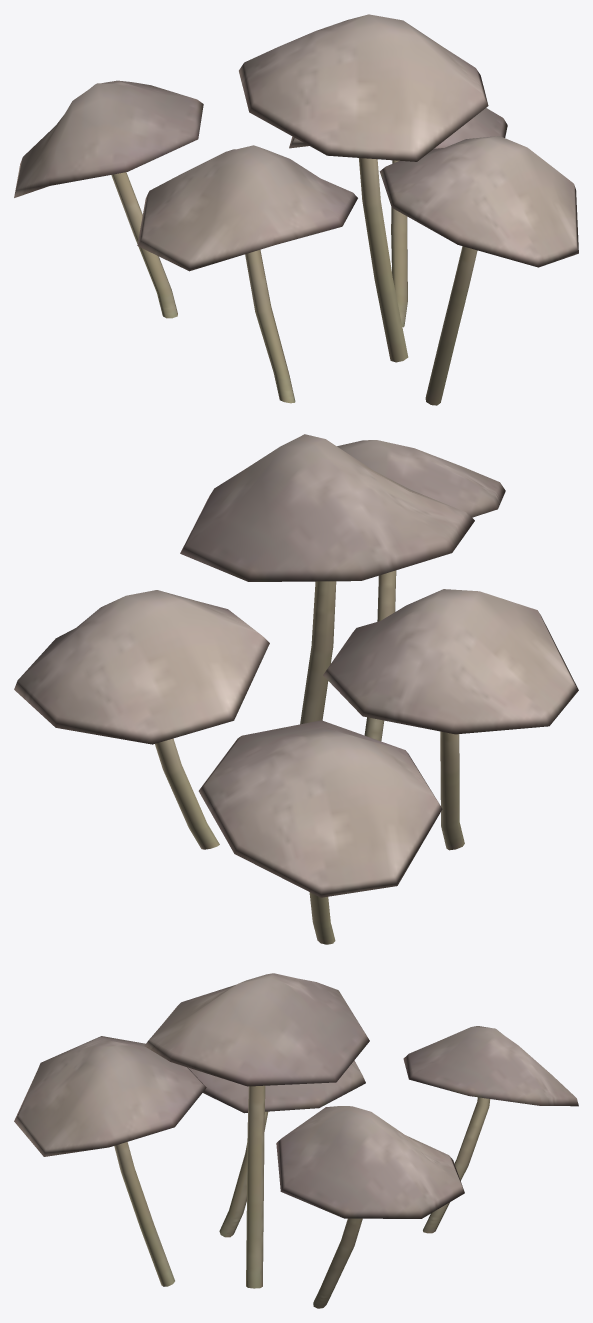
The model's file is Mushroom.glb.
The picture shows the model from 3 angles, top to bottom: view 1: azimuth 30°, elevation 25°; view 2: azimuth 150°, elevation 25°; view 3: azimuth 270°, elevation 25°; orthographic projection. The views are drawn at different scales.
Visible parts, largest first — view 1: Mushroom_Common; view 2: Mushroom_Common; view 3: Mushroom_Common.
Part boxes in pixels (<box>): Mushroom_Common: <box>14,14,578,405</box>; Mushroom_Common: <box>14,434,578,944</box>; Mushroom_Common: <box>14,973,578,1308</box>.
Bounding box in the file's own units: 0.5637 × 0.4635 × 0.7791.
Materials: 1 (1 with a texture image).
